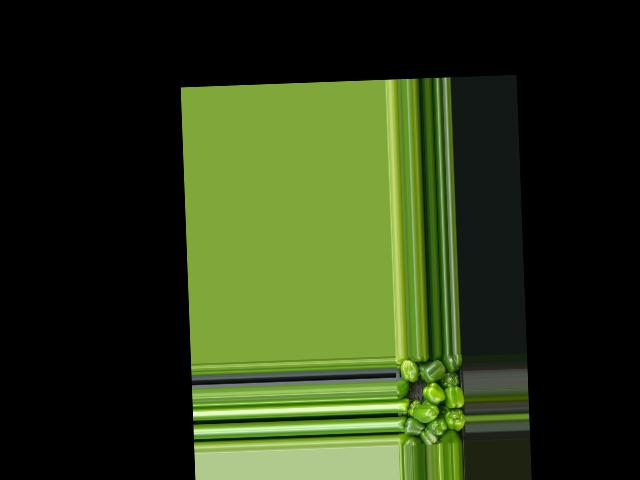bell_pepper: (437, 430, 456, 445)
